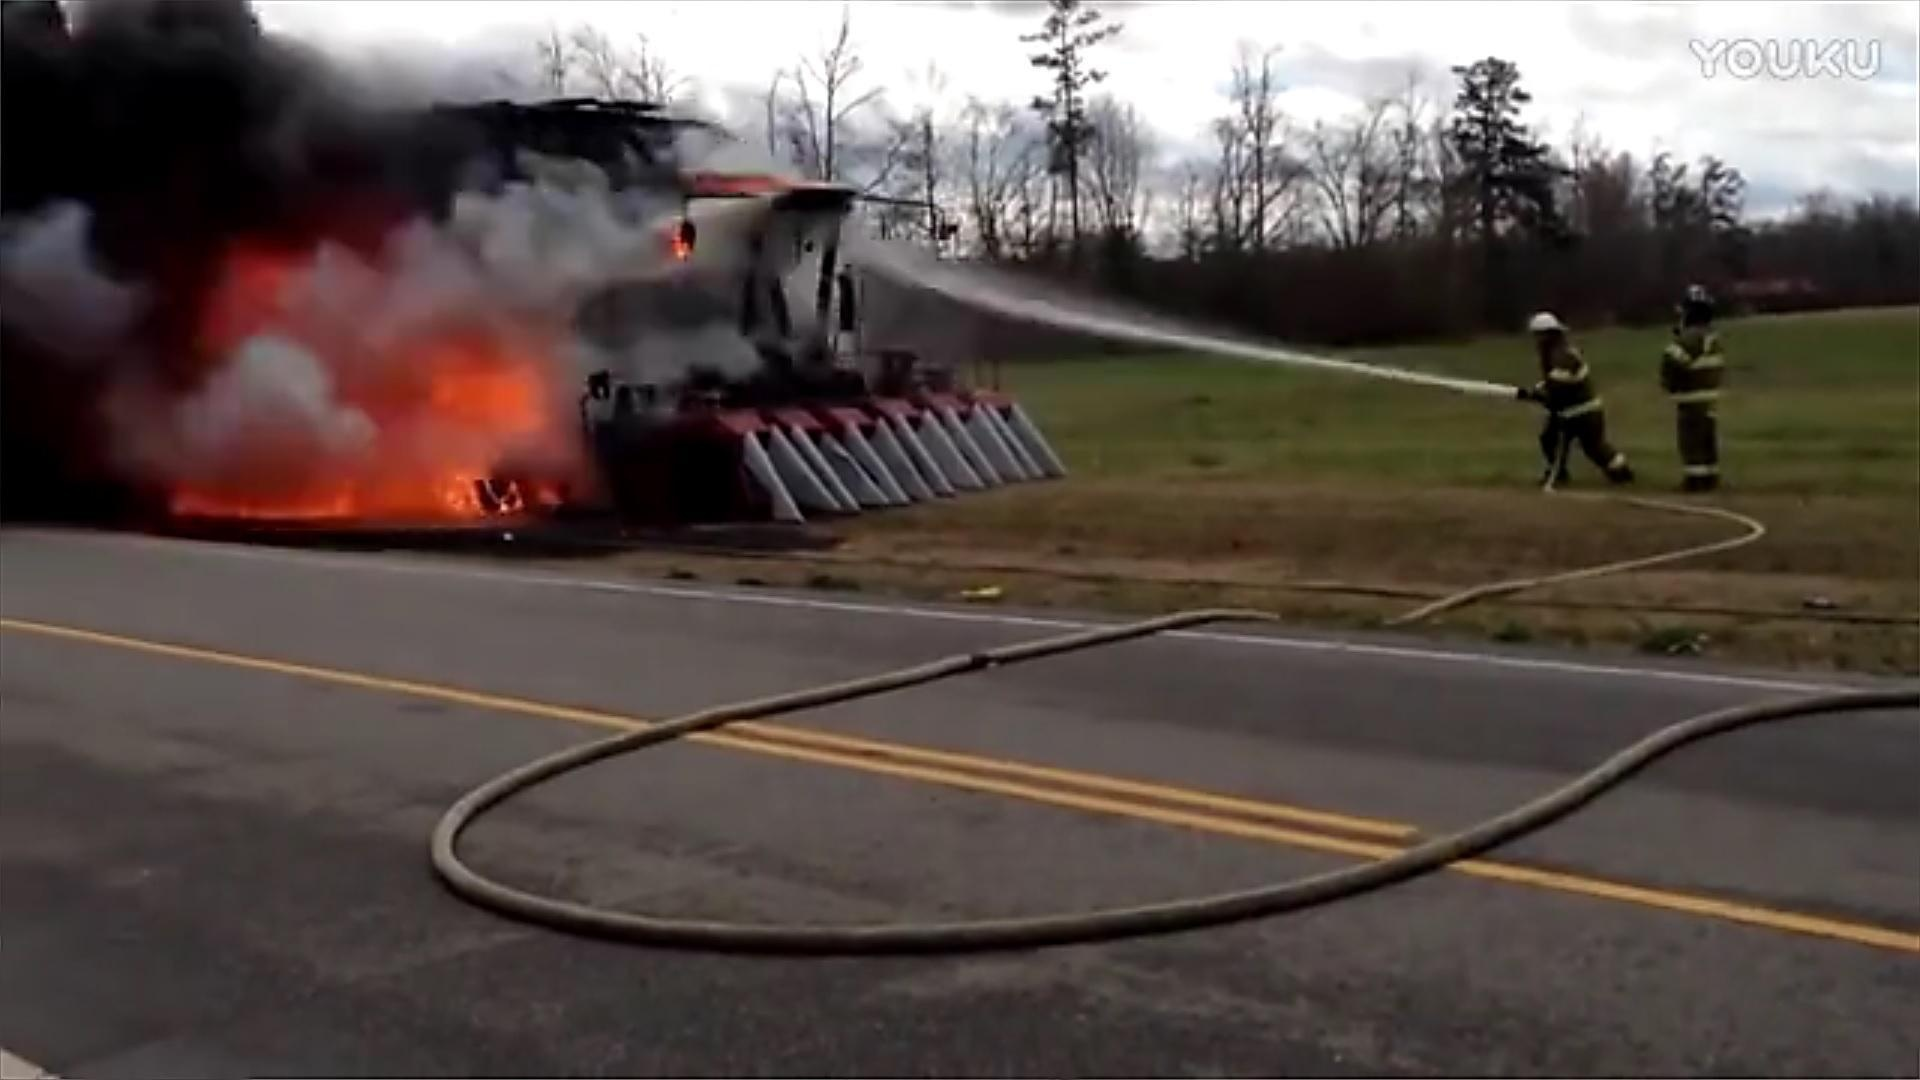fire: (158, 257, 568, 535)
